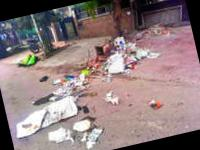trash: (17, 95, 78, 137), (107, 52, 125, 73), (114, 36, 127, 50)
